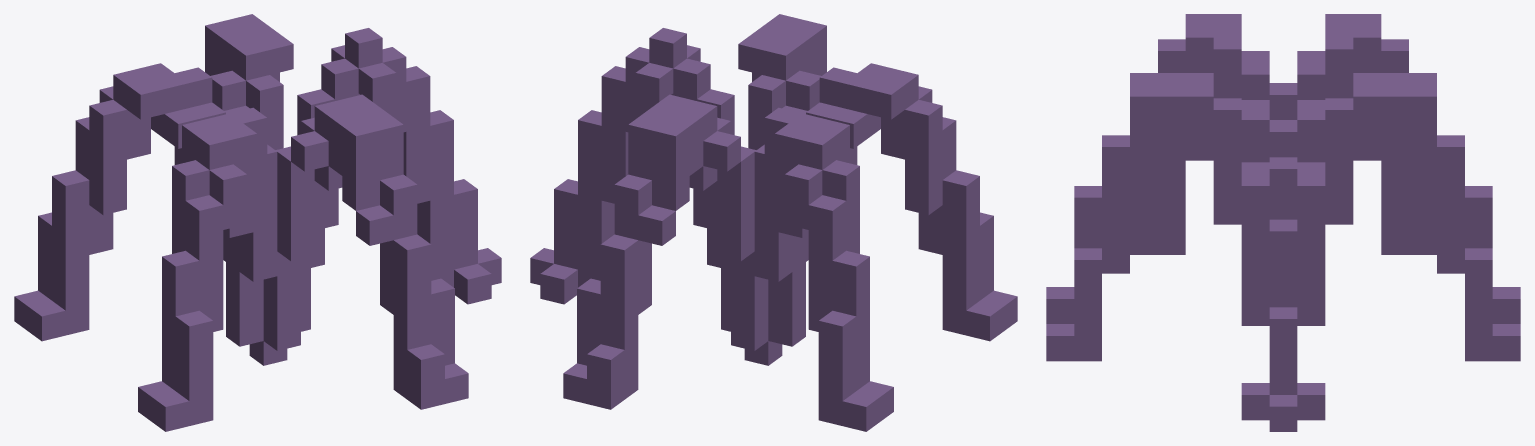
The model's file is alien-biosphere-root-fountain-35f828ce__22826.glb.
3 views of the same model, side by side, from view 1: azimuth 30°, elevation 25°; view 2: azimuth 150°, elevation 25°; view 3: azimuth 270°, elevation 25° (orthographic).
Parts seen in each view (by area): view 1: root-fountain_0; view 2: root-fountain_0; view 3: root-fountain_0.
Boxes of the visible parts, x1,y1,x2,y2 form: root-fountain_0: (14, 14, 501, 431); root-fountain_0: (530, 14, 1017, 431); root-fountain_0: (1046, 14, 1520, 431).
Size of the model in its own units: 3.4 by 2.4 by 3.4.
